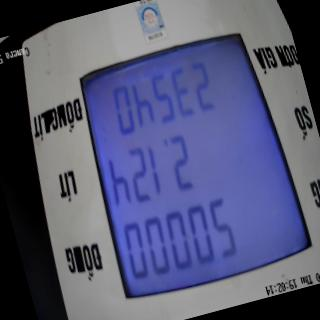screen: (58, 16, 320, 320)
